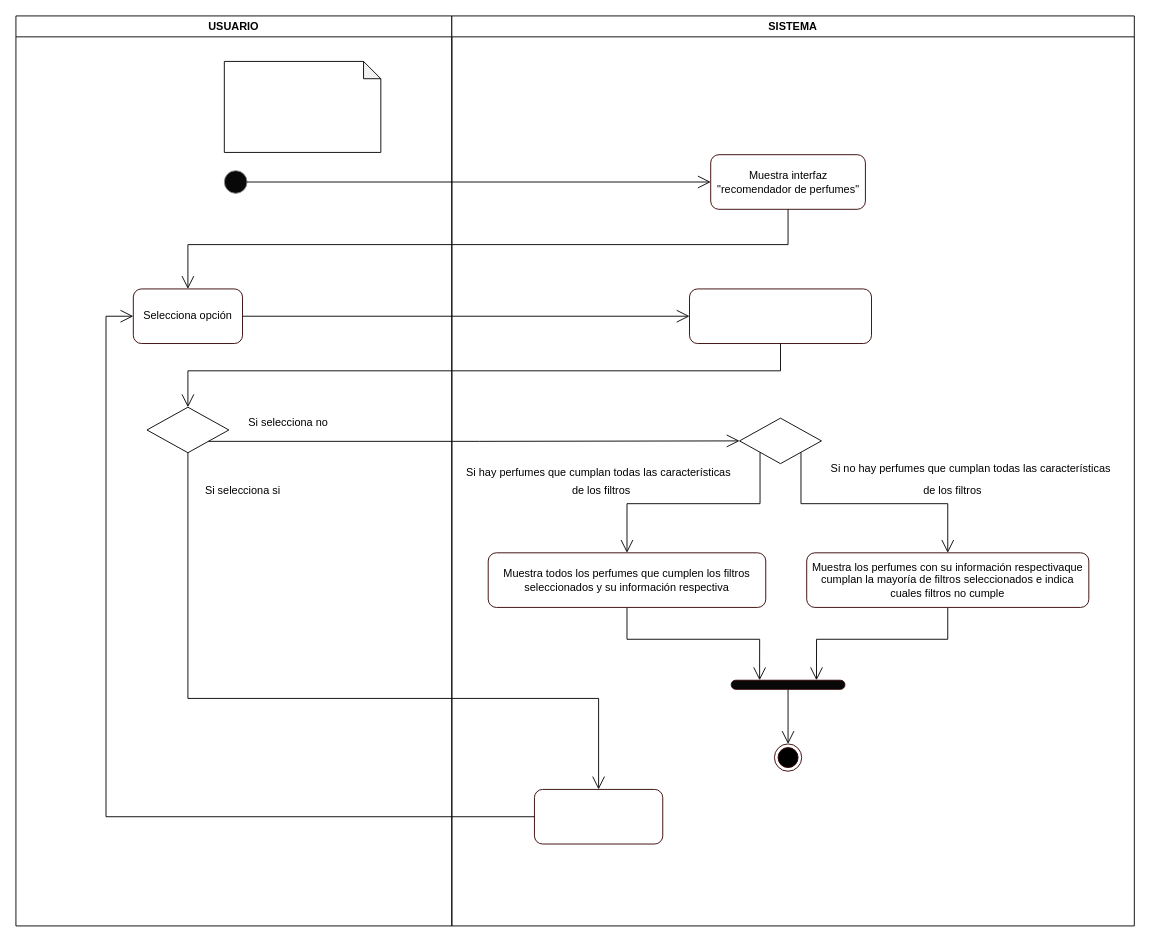
Image size: 1150x942. Some labels were removed from this diagram. The shapes that lost their labels are listed below. From the top down, each one's centre as x and y in pixels, then its label:
At [302,106]: "Este flujo se inicia cuando el usuario selecciona recomendador de perfumes".
At [780,316]: "Muestra mensaje preguntando si desea agregar otro filtro".
At [598,816]: "Muestra el siguiente filtro".
